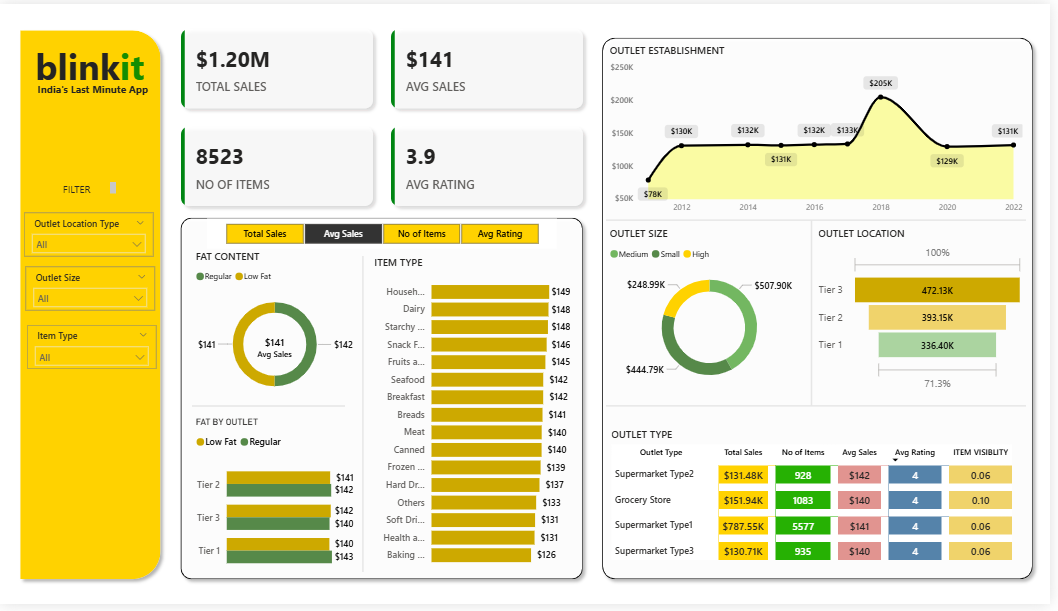

What the dashboard file says about the page in this screenshot:
{"tool":"powerbi","page":{"name":"Page 1","canvas":[1400,800],"ordinal":0},"visuals":[{"type":"shape","box":[17.5,25,205,750],"z":0},{"type":"textbox","box":[28.3,98.3,191.7,30],"z":1000},{"type":"textbox","box":[38.3,43.3,163.3,105],"z":2000},{"type":"cardVisual","fields":{"Data":["BlinkIT Grocery Data.Total Sales","BlinkIT Grocery Data.Avg Sales","BlinkIT Grocery Data.No of Items","BlinkIT Grocery Data.Avg Rating"]},"box":[224,16,570,270],"z":3000},{"type":"shape","box":[232,276,554,500],"z":4000},{"type":"donutChart","title":"FAT CONTENT","fields":{"Y":["BlinkIT Grocery Data.Avg Sales"],"Category":["BlinkIT Grocery Data.Item Fat Content"]},"box":[256,326,220,210],"z":5000},{"type":"slicer","fields":{"Values":["Metrics.Metrics"]},"box":[276,286,466,40],"z":6000},{"type":"cardVisual","fields":{"Data":["BlinkIT Grocery Data.Avg Sales"]},"box":[284,400,164,114],"z":7000},{"type":"clusteredBarChart","title":"FAT BY OUTLET","fields":{"Y":["BlinkIT Grocery Data.Avg Sales"],"Category":["BlinkIT Grocery Data.Outlet Location Type"],"Series":["BlinkIT Grocery Data.Item Fat Content"]},"box":[256.2,550,220,220],"z":8000},{"type":"shape","box":[256,522,204,28],"z":9000},{"type":"shape","box":[471.2,336.2,23.8,421.2],"z":10000},{"type":"barChart","title":"ITEM TYPE","fields":{"Y":["BlinkIT Grocery Data.Avg Sales"],"Category":["BlinkIT Grocery Data.Item Type"]},"box":[494.4,333.3,271.1,424.4],"z":11000},{"type":"shape","box":[794,36,592,740],"z":12000},{"type":"lineChart","title":"OUTLET ESTABLISHMENT","fields":{"Category":["BlinkIT Grocery Data.Outlet Establishment Year"],"Y":["BlinkIT Grocery Data.Total Sales"]},"box":[808.3,51.7,560,235],"z":13000},{"type":"shape","box":[808.3,273.3,560,28.3],"z":14000},{"type":"donutChart","title":"OUTLET SIZE","fields":{"Category":["BlinkIT Grocery Data.Outlet Size"],"Y":["BlinkIT Grocery Data.Total Sales"]},"box":[808.6,295.7,275,225],"z":15000},{"type":"shape","box":[1066,288,32,248],"z":16000},{"type":"funnel","title":"OUTLET LOCATION","fields":{"Category":["BlinkIT Grocery Data.Outlet Location Type"],"Y":["Sum(BlinkIT Grocery Data.Sales)"]},"box":[1085,296.7,283.3,225],"z":17000},{"type":"shape","box":[808.3,520,560,31.7],"z":18000},{"type":"pivotTable","title":"OUTLET TYPE","fields":{"Rows":["BlinkIT Grocery Data.Outlet Type"],"Values":["BlinkIT Grocery Data.Total Sales","BlinkIT Grocery Data.No of Items","BlinkIT Grocery Data.Avg Sales","BlinkIT Grocery Data.Avg Rating","Avg(BlinkIT Grocery Data.Item Visibility)"]},"box":[810,563.3,560,206.7],"z":19000},{"type":"slicer","fields":{"Values":["BlinkIT Grocery Data.Outlet Location Type"]},"box":[32.9,277.1,172.9,58.6],"z":20000},{"type":"slicer","fields":{"Values":["BlinkIT Grocery Data.Outlet Size"]},"box":[34.3,350,172.9,58.6],"z":21000},{"type":"slicer","fields":{"Values":["BlinkIT Grocery Data.Item Type"]},"box":[35.7,427.1,172.9,58.6],"z":22000},{"type":"textbox","box":[78.6,232.9,81.4,28.6],"z":23000}]}

Visuals, with their boxes in screenshot pixels (x1, y1, x2, y2), scaled from the page's 1400x800 canvas onto the 1058x611 screenshot:
shape: {"x1": 13, "y1": 19, "x2": 168, "y2": 592}
textbox: {"x1": 21, "y1": 75, "x2": 166, "y2": 98}
textbox: {"x1": 29, "y1": 33, "x2": 152, "y2": 113}
cardVisual - BlinkIT Grocery Data.Total Sales x BlinkIT Grocery Data.Avg Sales: {"x1": 169, "y1": 12, "x2": 600, "y2": 218}
shape: {"x1": 175, "y1": 211, "x2": 594, "y2": 593}
"FAT CONTENT" donutChart: {"x1": 193, "y1": 249, "x2": 360, "y2": 409}
slicer - Metrics.Metrics: {"x1": 209, "y1": 218, "x2": 561, "y2": 249}
cardVisual - BlinkIT Grocery Data.Avg Sales: {"x1": 215, "y1": 306, "x2": 339, "y2": 393}
"FAT BY OUTLET" clusteredBarChart: {"x1": 194, "y1": 420, "x2": 360, "y2": 588}
shape: {"x1": 193, "y1": 399, "x2": 348, "y2": 420}
shape: {"x1": 356, "y1": 257, "x2": 374, "y2": 578}
"ITEM TYPE" barChart: {"x1": 374, "y1": 255, "x2": 578, "y2": 579}
shape: {"x1": 600, "y1": 27, "x2": 1047, "y2": 593}
"OUTLET ESTABLISHMENT" lineChart: {"x1": 611, "y1": 39, "x2": 1034, "y2": 219}
shape: {"x1": 611, "y1": 209, "x2": 1034, "y2": 230}
"OUTLET SIZE" donutChart: {"x1": 611, "y1": 226, "x2": 819, "y2": 398}
shape: {"x1": 806, "y1": 220, "x2": 830, "y2": 409}
"OUTLET LOCATION" funnel: {"x1": 820, "y1": 227, "x2": 1034, "y2": 398}
shape: {"x1": 611, "y1": 397, "x2": 1034, "y2": 421}
"OUTLET TYPE" pivotTable: {"x1": 612, "y1": 430, "x2": 1035, "y2": 588}
slicer - BlinkIT Grocery Data.Outlet Location Type: {"x1": 25, "y1": 212, "x2": 156, "y2": 256}
slicer - BlinkIT Grocery Data.Outlet Size: {"x1": 26, "y1": 267, "x2": 157, "y2": 312}
slicer - BlinkIT Grocery Data.Item Type: {"x1": 27, "y1": 326, "x2": 158, "y2": 371}
textbox: {"x1": 59, "y1": 178, "x2": 121, "y2": 200}
